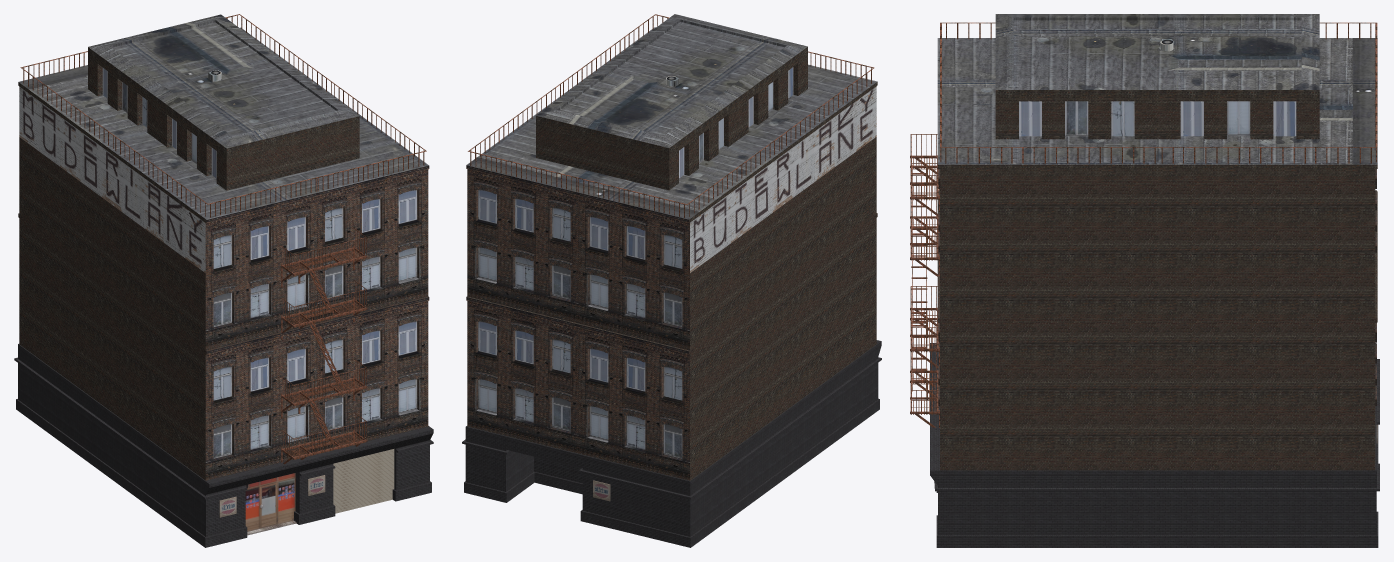
Rendered from Building H.fbx.
The picture shows the model from 3 angles, left to right: view 1: azimuth 30°, elevation 25°; view 2: azimuth 150°, elevation 25°; view 3: azimuth 270°, elevation 25°; orthographic projection. The views are drawn at different scales.
Visible parts, largest first — view 1: K_Building_A13_00; view 2: K_Building_A13_00; view 3: K_Building_A13_00.
Boxes of the visible parts, x1,y1,x2,y2 form: K_Building_A13_00: [14, 14, 433, 547]; K_Building_A13_00: [462, 14, 881, 547]; K_Building_A13_00: [910, 14, 1379, 547].
Size of the model in its own units: 1295 by 2035 by 1973.
9 materials, 9 textured.
